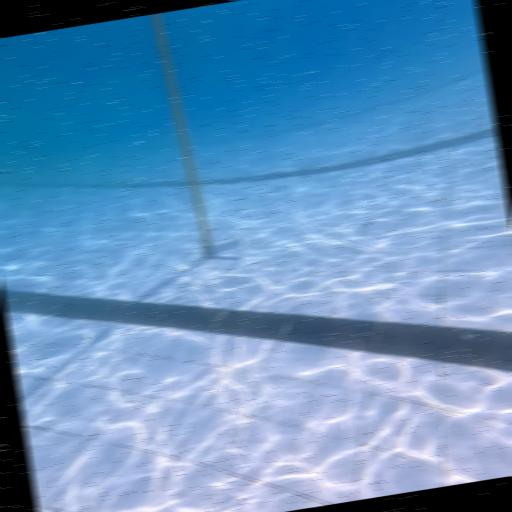pole_gate: (148, 10, 214, 258)
